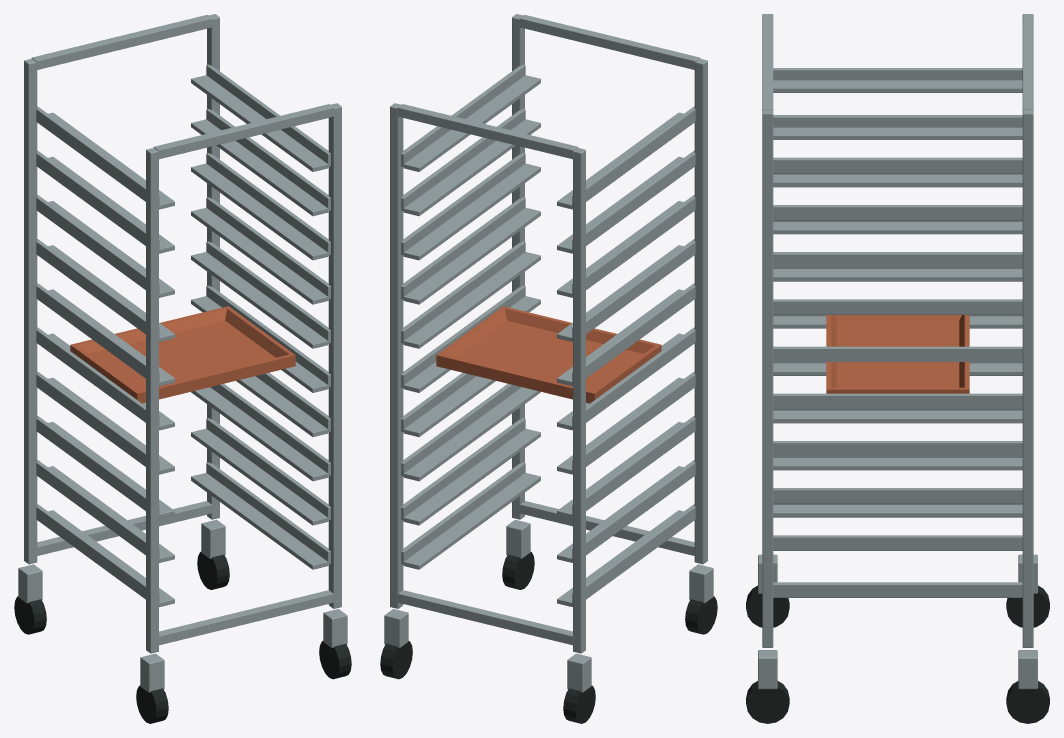
Rendered from hawker-centre-tray-rack.glb.
The picture shows the model from 3 angles, left to right: view 1: azimuth 30°, elevation 25°; view 2: azimuth 150°, elevation 25°; view 3: azimuth 270°, elevation 25°; orthographic projection. The views are drawn at different scales.
Visible parts, largest first — view 1: CONTEXT_Tray_Reuse439, POST_-0.26_0.3, POST_-0.26_-0.3, POST_0.26_-0.3, CROSSBAR_1.54_-0.3, CROSSBAR_1.54_0.3, CROSSBAR_0.22_-0.3, RAIL_Horizontal_0_1, RAIL_Horizontal_1_1, RAIL_Horizontal_5_1, RAIL_Horizontal_6_1, RAIL_Horizontal_7_1 (+44 smaller); view 2: CONTEXT_Tray_Reuse439, POST_-0.26_-0.3, POST_-0.26_0.3, POST_0.26_0.3, CROSSBAR_1.54_-0.3, CROSSBAR_1.54_0.3, CROSSBAR_0.22_0.3, RAIL_Horizontal_0_1, RAIL_Horizontal_1_1, RAIL_Horizontal_5_1, RAIL_Horizontal_6_1, RAIL_Horizontal_7_1 (+44 smaller); view 3: CONTEXT_Tray_Reuse439, POST_0.26_-0.3, POST_0.26_0.3, RAIL_Upstand_4_1, RAIL_Upstand_9_1, RAIL_Upstand_0_1, RAIL_Upstand_1_1, RAIL_Upstand_2_1, RAIL_Upstand_3_1, RAIL_Upstand_5_1, RAIL_Upstand_6_1, RAIL_Upstand_7_1 (+27 smaller).
Part boxes in pixels (x1,y1,x2,y2): CONTEXT_Tray_Reuse439: (70, 306, 295, 403); POST_-0.26_0.3: (24, 58, 37, 564); POST_-0.26_-0.3: (146, 148, 158, 653); POST_0.26_-0.3: (328, 103, 341, 608); CROSSBAR_1.54_-0.3: (153, 104, 334, 159); CROSSBAR_1.54_0.3: (31, 14, 212, 69); CROSSBAR_0.22_-0.3: (158, 590, 333, 645); RAIL_Horizontal_0_1: (191, 473, 328, 569); RAIL_Horizontal_1_1: (191, 428, 328, 525); RAIL_Horizontal_5_1: (191, 252, 328, 348); RAIL_Horizontal_6_1: (191, 207, 328, 304); RAIL_Horizontal_7_1: (191, 163, 328, 260); CONTEXT_Tray_Reuse439: (436, 306, 661, 403); POST_-0.26_-0.3: (694, 58, 707, 564); POST_-0.26_0.3: (573, 148, 585, 653); POST_0.26_0.3: (390, 103, 403, 608); CROSSBAR_1.54_-0.3: (519, 14, 700, 69); CROSSBAR_1.54_0.3: (397, 104, 578, 159); CROSSBAR_0.22_0.3: (398, 590, 573, 645); RAIL_Horizontal_0_1: (403, 473, 540, 569); RAIL_Horizontal_1_1: (403, 428, 540, 525); RAIL_Horizontal_5_1: (403, 252, 540, 348); RAIL_Horizontal_6_1: (403, 207, 540, 304); RAIL_Horizontal_7_1: (403, 163, 540, 260); CONTEXT_Tray_Reuse439: (826, 315, 969, 393); POST_0.26_-0.3: (762, 109, 773, 647); POST_0.26_0.3: (1022, 109, 1033, 647); RAIL_Upstand_4_1: (773, 393, 1022, 409); RAIL_Upstand_9_1: (773, 157, 1022, 173); RAIL_Upstand_0_1: (773, 582, 1022, 597); RAIL_Upstand_1_1: (773, 535, 1022, 550); RAIL_Upstand_2_1: (773, 488, 1022, 503); RAIL_Upstand_3_1: (773, 441, 1022, 456); RAIL_Upstand_5_1: (773, 346, 1022, 361); RAIL_Upstand_6_1: (773, 299, 1022, 314); RAIL_Upstand_7_1: (773, 252, 1022, 267).
Size of the model in its own units: 0.565 by 1.55 by 0.7.
